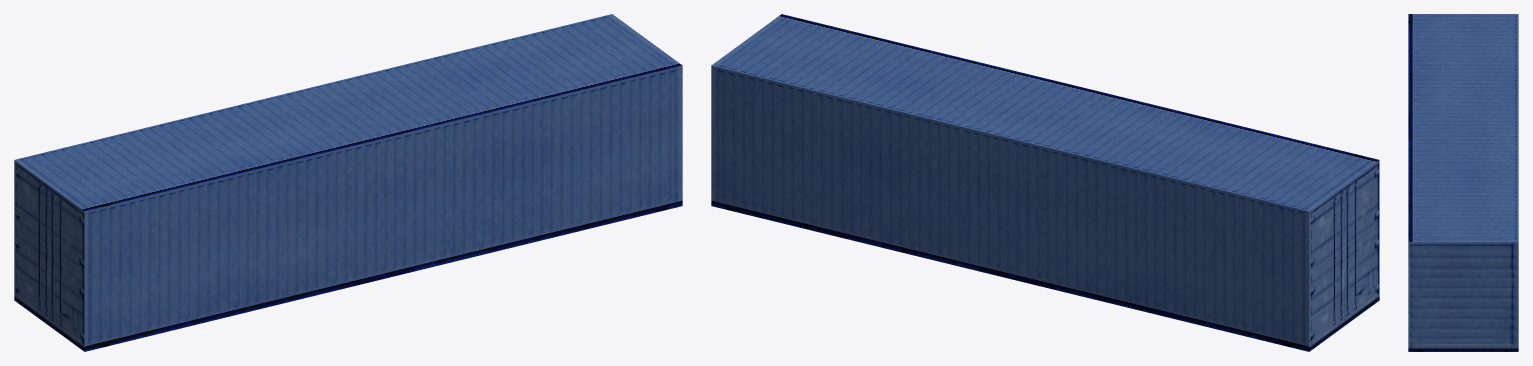
File: 40ftContainer.DAE
3 views of the same model, side by side, from view 1: azimuth 30°, elevation 25°; view 2: azimuth 150°, elevation 25°; view 3: azimuth 270°, elevation 25° (orthographic). The views are drawn at different scales.
Visible parts, largest first — view 1: Box01; view 2: Box01; view 3: Box01.
Part boxes in pixels (x1,y1,x2,y2): Box01: (14,14,682,351); Box01: (711,14,1379,351); Box01: (1408,14,1518,351).
Size of the model in its own units: 12.25 by 2.5 by 2.75.
1 material, 1 textured.
